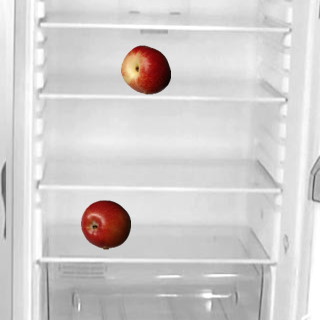Apple Braeburn: (80, 199, 130, 249)
Nectarine: (120, 44, 170, 94)
